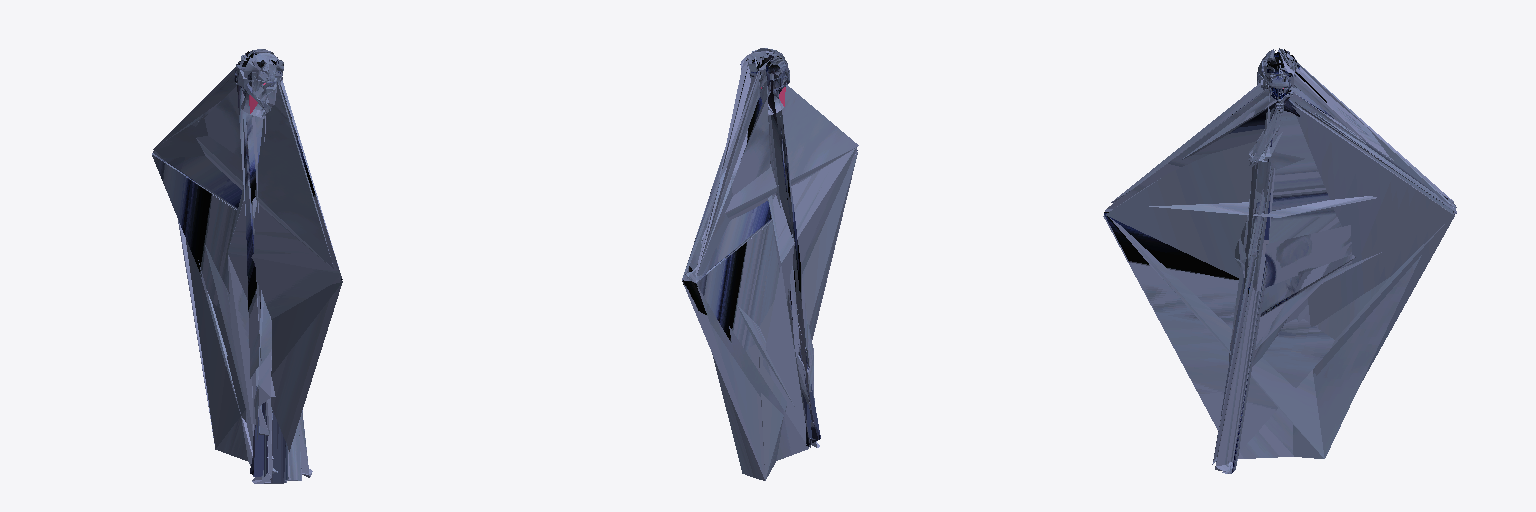
3 renders of one model, left to right at view 1: azimuth 30°, elevation 25°; view 2: azimuth 150°, elevation 25°; view 3: azimuth 270°, elevation 25°, orthographic.
Parts seen in each view (by area): view 1: body_default1; view 2: body_default1; view 3: body_default1.
Part boxes in pixels (x1,y1,x2,y2): body_default1: (152,49,342,483); body_default1: (682,48,858,480); body_default1: (1103,48,1456,473).
Size of the model in its own units: 8.63 by 59.14 by 46.29.
4 materials, 2 textured.